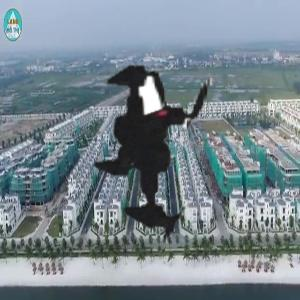drone: (29, 15, 298, 284)
